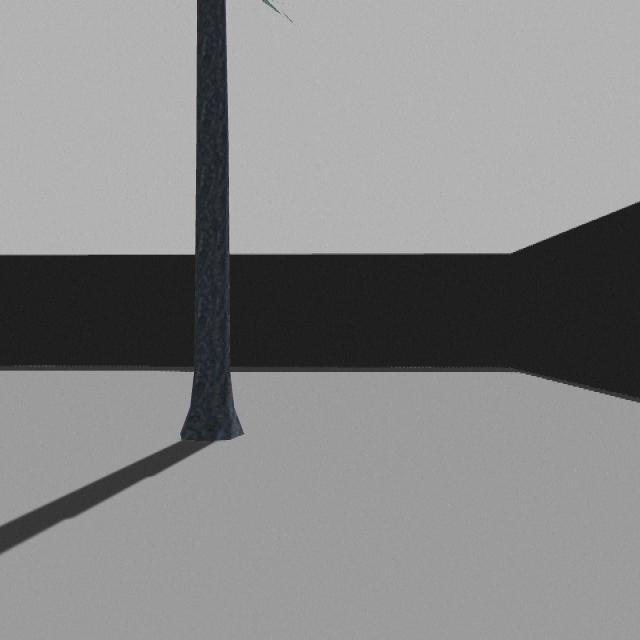tree: (180, 0, 245, 447)
